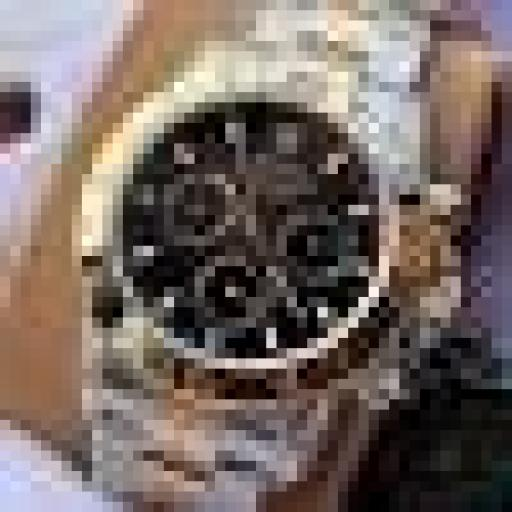KolSaati: (26, 8, 512, 512)
